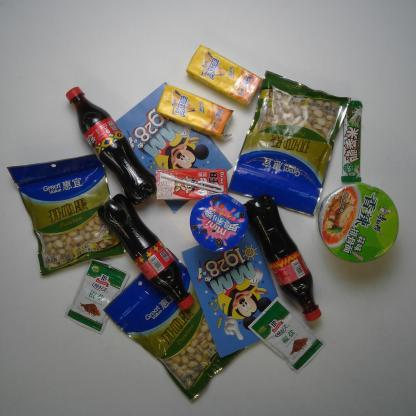Chocolate: (340, 99, 364, 184)
Dessert: (190, 193, 248, 254)
Dried Fruit: (104, 260, 246, 401), (227, 69, 349, 218), (6, 154, 128, 277)
Drink: (97, 192, 194, 311), (67, 86, 157, 207), (243, 194, 323, 323), (186, 46, 264, 106), (157, 84, 231, 139)
Instant Noodles: (318, 183, 402, 264)
Milk: (154, 167, 230, 202)
Seasoner: (249, 297, 324, 371), (66, 256, 131, 334)
Stationery: (113, 82, 235, 214), (183, 228, 284, 358)
